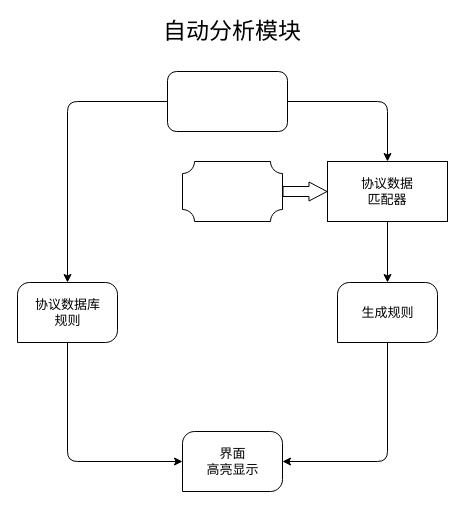
Image size: 465x509. Some labels were removed from this diagram. Each missing label, with the centre of its shape:
关键词 变形器: the point at 232,191
协议输入: the point at 227,101
